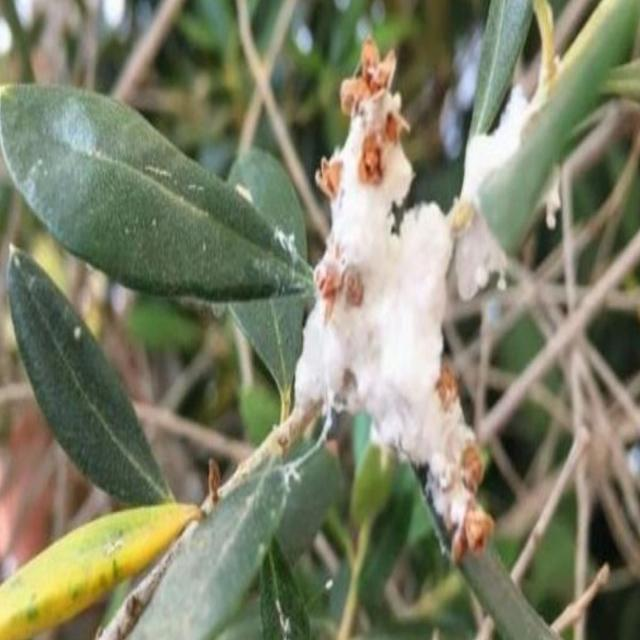Peacock Eye: (0, 502, 201, 639)
Psyllid: (296, 41, 493, 554)
